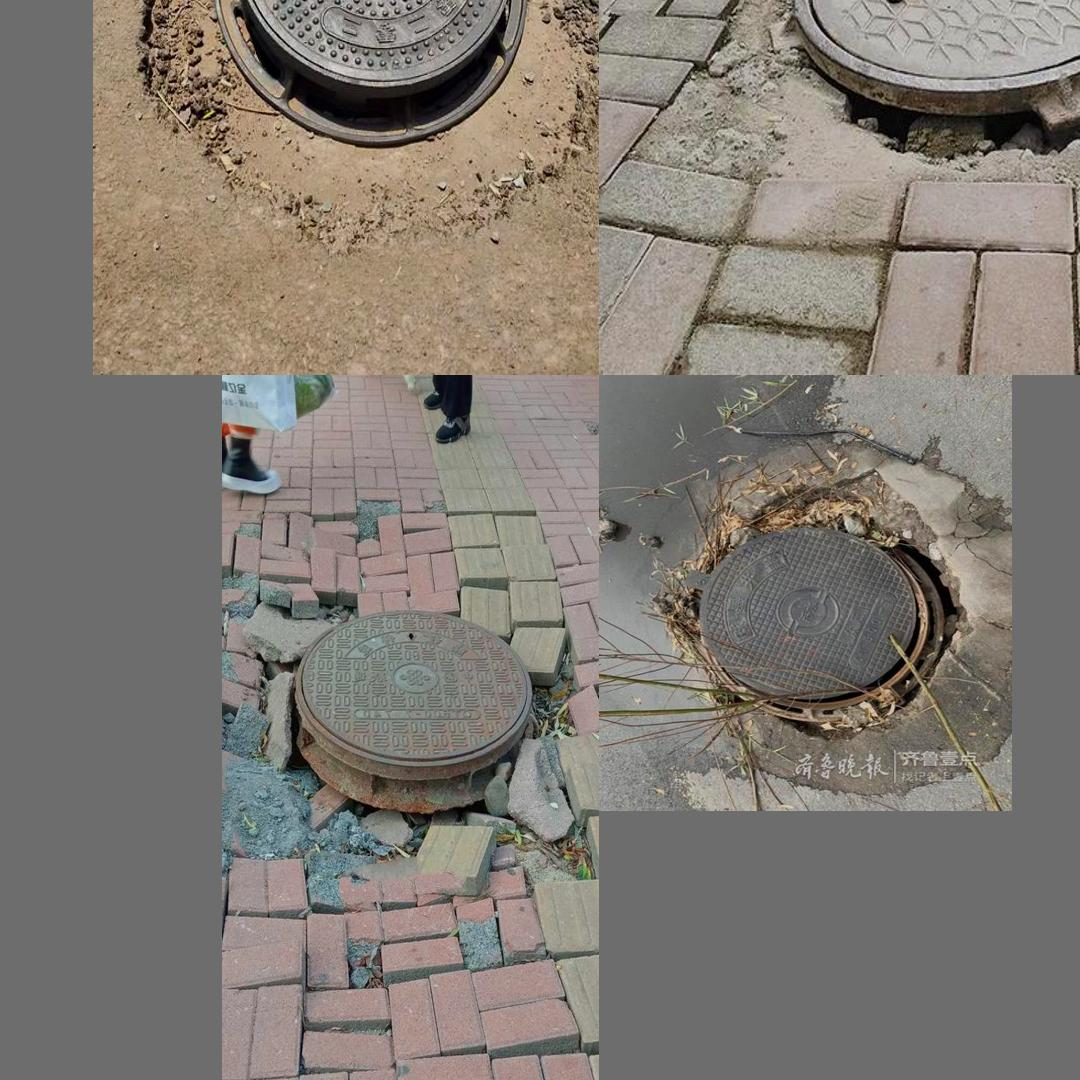circle: (226, 523, 590, 1001), (640, 435, 1006, 788), (143, 0, 589, 241), (651, 0, 1080, 221)
